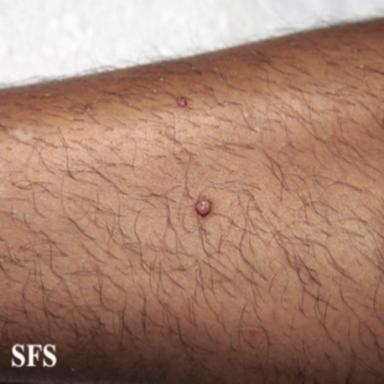Molluscum-Contagiosum: (195, 196, 211, 216), (176, 96, 187, 107), (83, 104, 93, 113)
